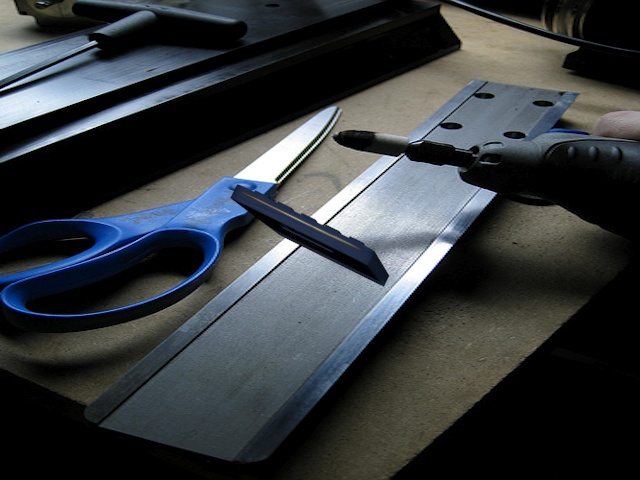calculator: (225, 176, 400, 289)
